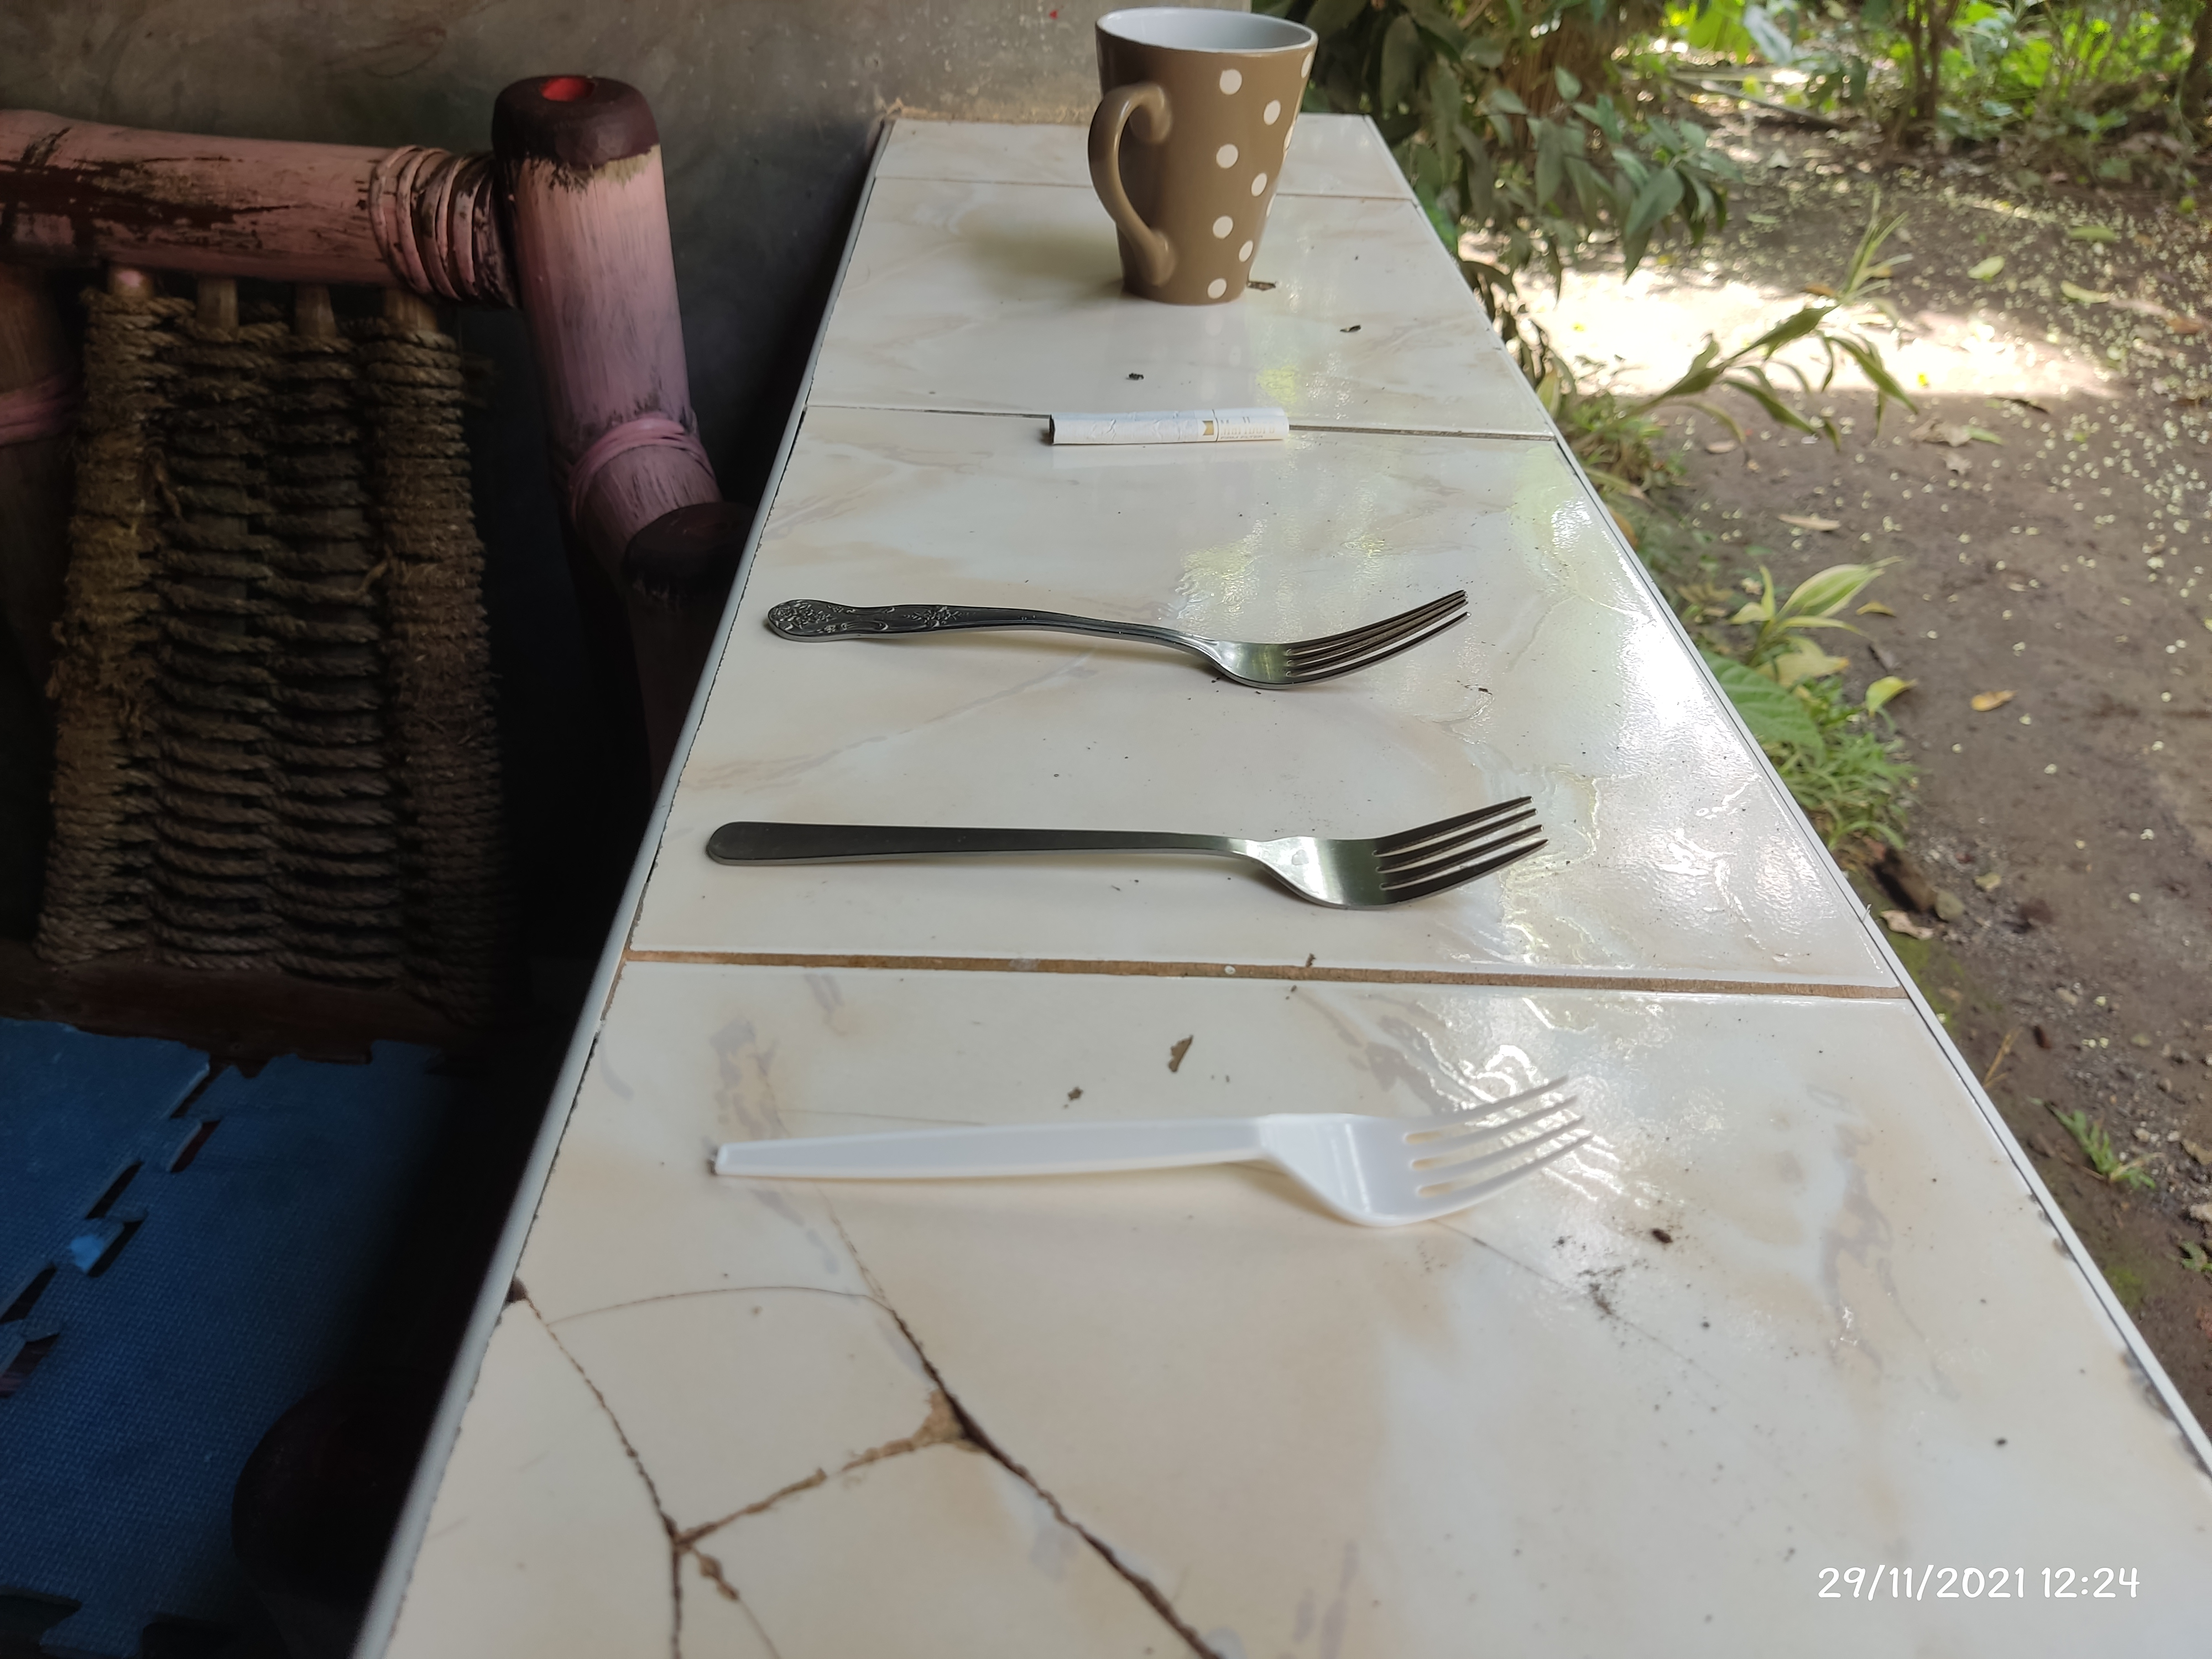fork: (707, 1077, 1587, 1236), (700, 798, 1550, 906), (766, 589, 1472, 685)
